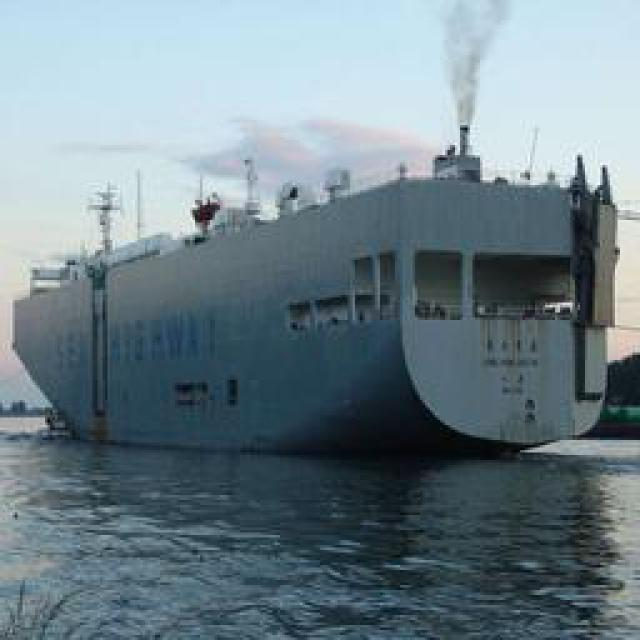Ship: (8, 118, 629, 468)
